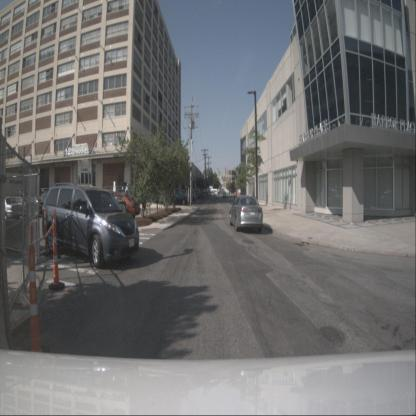movable_object-trafficcone: (25, 225, 50, 358), (48, 208, 65, 291), (42, 208, 51, 256)
vehicle-car: (41, 182, 140, 270), (229, 194, 263, 235), (94, 193, 140, 222), (0, 195, 23, 222), (19, 196, 47, 216), (169, 192, 191, 206), (175, 190, 191, 202), (192, 190, 204, 200)
